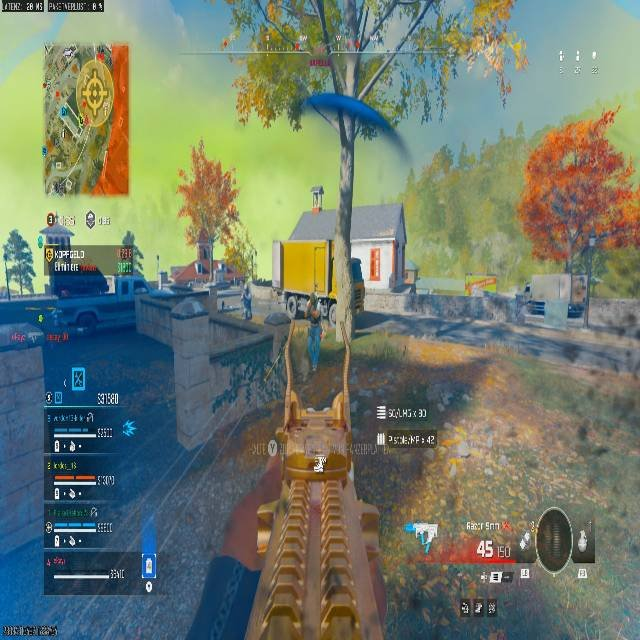head: (46, 212, 55, 226)
player: (2, 229, 36, 295), (115, 231, 146, 290)
